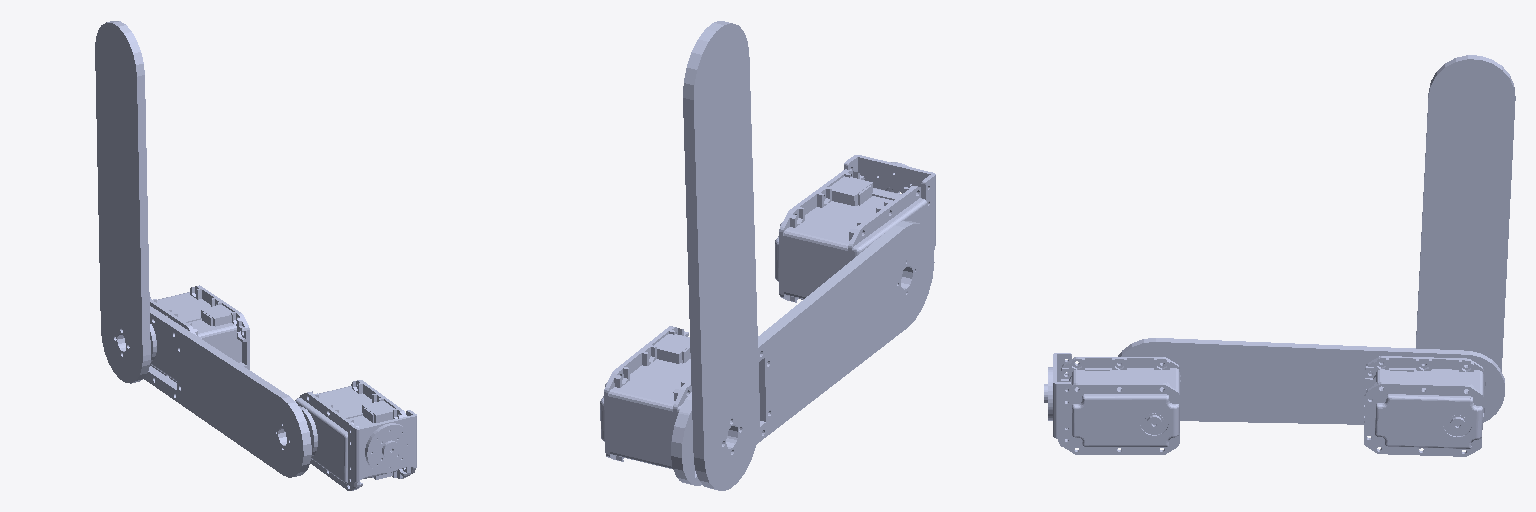
URDF robot description (Assem1.SLDASM):
<?xml version="1.0" encoding="utf-8"?>
<!-- This URDF was automatically created by SolidWorks to URDF Exporter! Originally created by [author] ([email redacted]) 
     Commit Version: 1.6.0-4-g7f85cfe  Build Version: 1.6.7995.38578
     For more information, please see http://wiki.ros.org/sw_urdf_exporter -->
<robot
  name="Assem1.SLDASM">
  <link
    name="base_link">
    <inertial>
      <origin
        xyz="0.194908135350311 -0.666317285120584 0.425266079442174"
        rpy="0 0 0" />
      <mass
        value="0.347357940991766" />
      <inertia
        ixx="0.000963990016503346"
        ixy="-4.85815214750057E-07"
        ixz="3.24434376488303E-08"
        iyy="0.000949739993207119"
        iyz="8.80313108208101E-07"
        izz="0.00188042300575917" />
    </inertial>
    <visual>
      <origin
        xyz="0 0 0"
        rpy="0 0 0" />
      <geometry>
        <mesh
          filename="package://Assem1.SLDASM/meshes/base_link.STL" />
      </geometry>
      <material
        name="">
        <color
          rgba="0.627450980392157 0.627450980392157 0.627450980392157 1" />
      </material>
    </visual>
    <collision>
      <origin
        xyz="0 0 0"
        rpy="0 0 0" />
      <geometry>
        <mesh
          filename="package://Assem1.SLDASM/meshes/base_link.STL" />
      </geometry>
    </collision>
  </link>
  <link
    name="link_1">
    <inertial>
      <origin
        xyz="-0.000424631541026121 -0.00662840829546674 0.0313381598564763"
        rpy="0 0 0" />
      <mass
        value="0.0769816626073787" />
      <inertia
        ixx="2.52613157758785E-05"
        ixy="-1.50928884930792E-11"
        ixz="-8.80579104559078E-07"
        iyy="3.05117113102422E-05"
        iyz="-1.06200599549108E-08"
        izz="1.79525957156044E-05" />
    </inertial>
    <visual>
      <origin
        xyz="0 0 0"
        rpy="0 0 0" />
      <geometry>
        <mesh
          filename="package://Assem1.SLDASM/meshes/link_1.STL" />
      </geometry>
      <material
        name="">
        <color
          rgba="0.792156862745098 0.819607843137255 0.933333333333333 1" />
      </material>
    </visual>
    <collision>
      <origin
        xyz="0 0 0"
        rpy="0 0 0" />
      <geometry>
        <mesh
          filename="package://Assem1.SLDASM/meshes/link_1.STL" />
      </geometry>
    </collision>
  </link>
  <joint
    name="joint_1"
    type="revolute">
    <origin
      xyz="0.19485 -0.31815 -0.6505"
      rpy="1.5708 0.0042157 0" />
    <parent
      link="base_link" />
    <child
      link="link_1" />
    <axis
      xyz="0 0 1" />
    <limit
      lower="0"
      upper="0"
      effort="0"
      velocity="0" />
  </joint>
  <link
    name="link_2">
    <inertial>
      <origin
        xyz="-3.74878474962426E-06 0.11516179823634 0.0169905434542475"
        rpy="0 0 0" />
      <mass
        value="0.107043419511333" />
      <inertia
        ixx="0.00011579075433167"
        ixy="1.7541631424572E-08"
        ixz="1.4488206425058E-11"
        iyy="2.27095900581174E-05"
        iyz="-8.80581745406886E-07"
        izz="0.000116463673441361" />
    </inertial>
    <visual>
      <origin
        xyz="0 0 0"
        rpy="0 0 0" />
      <geometry>
        <mesh
          filename="package://Assem1.SLDASM/meshes/link_2.STL" />
      </geometry>
      <material
        name="">
        <color
          rgba="0.792156862745098 0.819607843137255 0.933333333333333 1" />
      </material>
    </visual>
    <collision>
      <origin
        xyz="0 0 0"
        rpy="0 0 0" />
      <geometry>
        <mesh
          filename="package://Assem1.SLDASM/meshes/link_2.STL" />
      </geometry>
    </collision>
  </link>
  <joint
    name="joint_2"
    type="revolute">
    <origin
      xyz="0 -0.0069993 0.014"
      rpy="-1.5708 0.03392 1.5708" />
    <parent
      link="link_1" />
    <child
      link="link_2" />
    <axis
      xyz="0 0 -1" />
    <limit
      lower="0"
      upper="0"
      effort="0"
      velocity="0" />
  </joint>
  <link
    name="link_3">
    <inertial>
      <origin
        xyz="3.15944264361878E-08 0.0794658417352812 0.00614139745848524"
        rpy="0 0 0" />
      <mass
        value="0.0456376345181192" />
      <inertia
        ixx="0.000143599720164531"
        ixy="3.85932705903103E-15"
        ixz="-2.9617484730104E-13"
        iyy="7.35170888331008E-06"
        iyz="-8.71268304945591E-16"
        izz="0.000150764802481037" />
    </inertial>
    <visual>
      <origin
        xyz="0 0 0"
        rpy="0 0 0" />
      <geometry>
        <mesh
          filename="package://Assem1.SLDASM/meshes/link_3.STL" />
      </geometry>
      <material
        name="">
        <color
          rgba="0.792156862745098 0.819607843137255 0.933333333333333 1" />
      </material>
    </visual>
    <collision>
      <origin
        xyz="0 0 0"
        rpy="0 0 0" />
      <geometry>
        <mesh
          filename="package://Assem1.SLDASM/meshes/link_3.STL" />
      </geometry>
    </collision>
  </link>
  <joint
    name="joint_3"
    type="revolute">
    <origin
      xyz="0 0.15688 0.035322"
      rpy="0 0 -1.559" />
    <parent
      link="link_2" />
    <child
      link="link_3" />
    <axis
      xyz="0 0 -1" />
    <limit
      lower="0"
      upper="0"
      effort="0"
      velocity="0" />
  </joint>
</robot>

--- Render facts (derived) ---
Views: 3 orthographic renders of the robot side by side, from view 1: azimuth 30°, elevation 25°; view 2: azimuth 150°, elevation 25°; view 3: azimuth 270°, elevation 25°.
Model Assem1.SLDASM with 4 links and 3 joints (3 revolute), rooted at base_link, posed every joint at zero.
Visible links, largest first — view 1: link_3, link_2, link_1; view 2: link_3, link_2, link_1; view 3: link_2, link_3, link_1.
Boxes of the visible links, x1,y1,x2,y2 form: link_3: (95, 21, 150, 383); link_2: (144, 285, 311, 477); link_1: (295, 380, 416, 490); link_3: (683, 21, 759, 490); link_2: (600, 221, 934, 485); link_1: (775, 155, 935, 302); link_2: (1117, 338, 1504, 456); link_3: (1416, 55, 1515, 412); link_1: (1044, 353, 1180, 454).
Bounding box of the posed robot: 0.0662 × 0.2435 × 0.2074 m (x, y, z).
3 mesh visuals loaded from 4 distinct referenced files (3 binary STL); not drawn: 1 (reference not matched to a file when rendering).